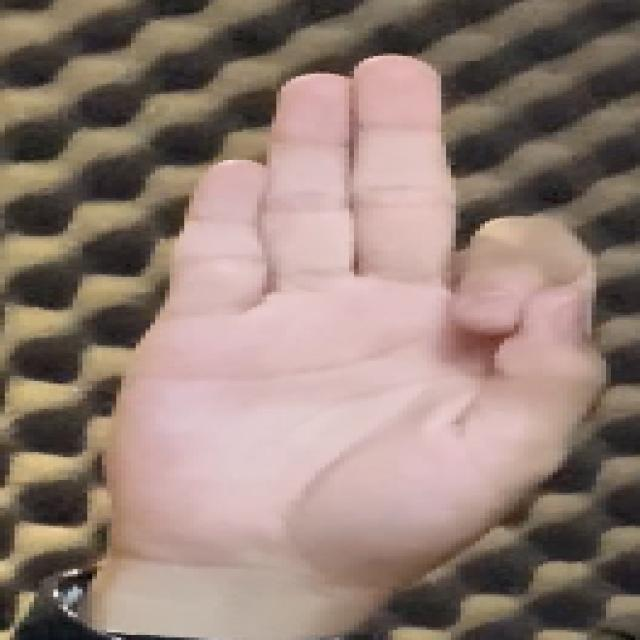F: (80, 47, 618, 588)
